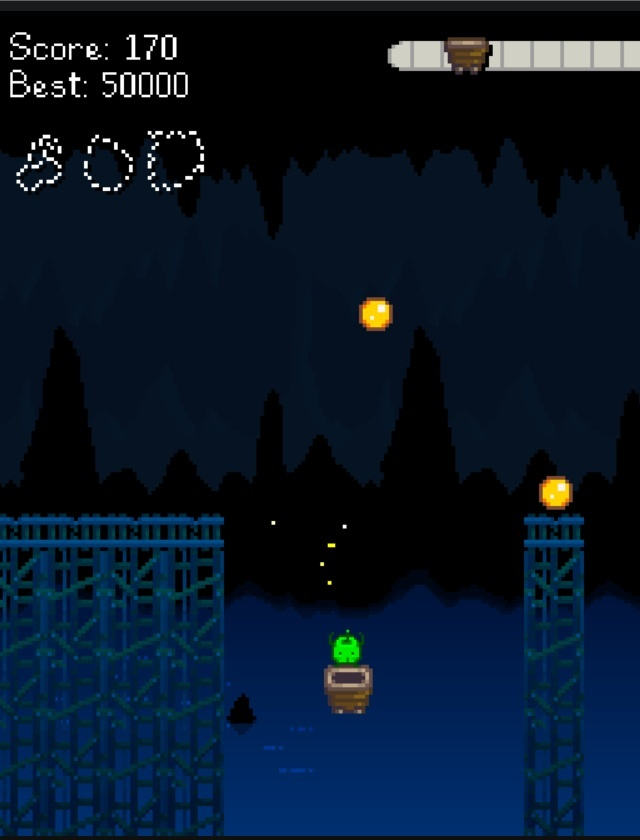coins: (359, 297, 392, 331), (540, 477, 571, 509)
minecart: (324, 630, 372, 713)
score: (122, 29, 182, 65)
tracks: (0, 505, 229, 551), (518, 511, 589, 554)
